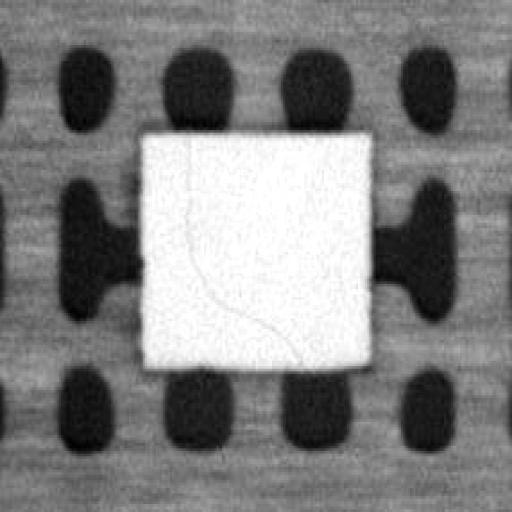DIE_CRACK: (181, 133, 299, 358)
